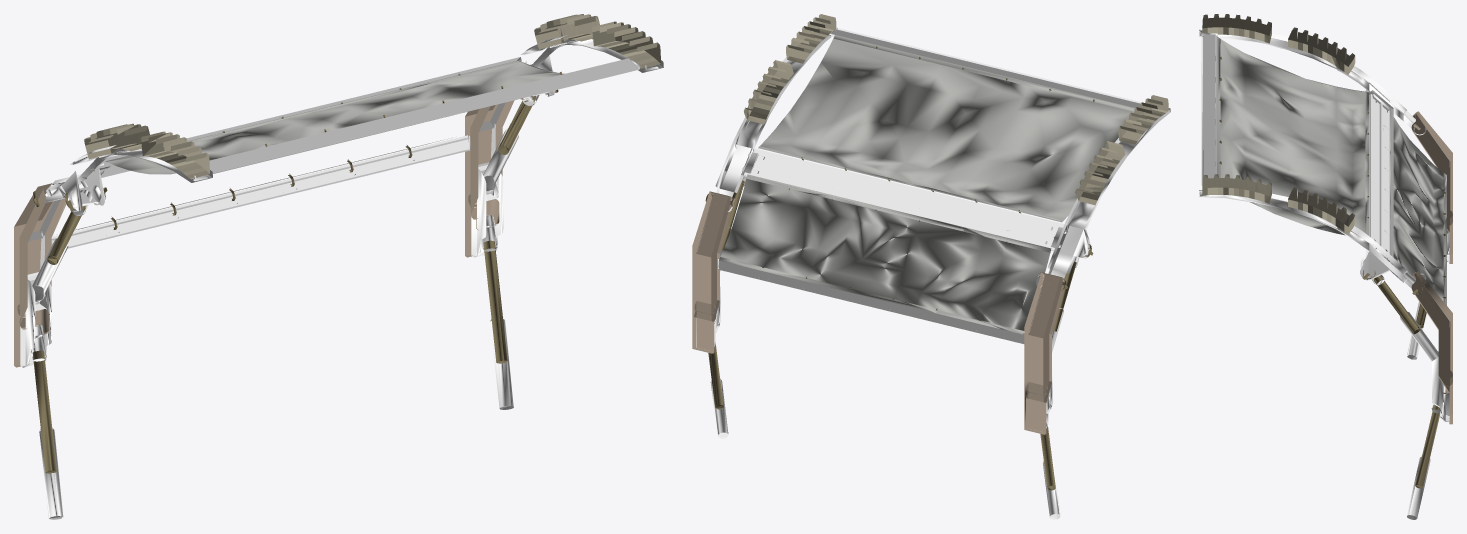
The model's file is tunnel_junctiont_frame_panel_08x04x08_a.glb.
3 views of the same model, side by side, from view 1: azimuth 30°, elevation 25°; view 2: azimuth 150°, elevation 25°; view 3: azimuth 270°, elevation 25° (orthographic). The views are drawn at different scales.
Bounding box in the file's own units: 5.55 × 5.11 × 3.45.
